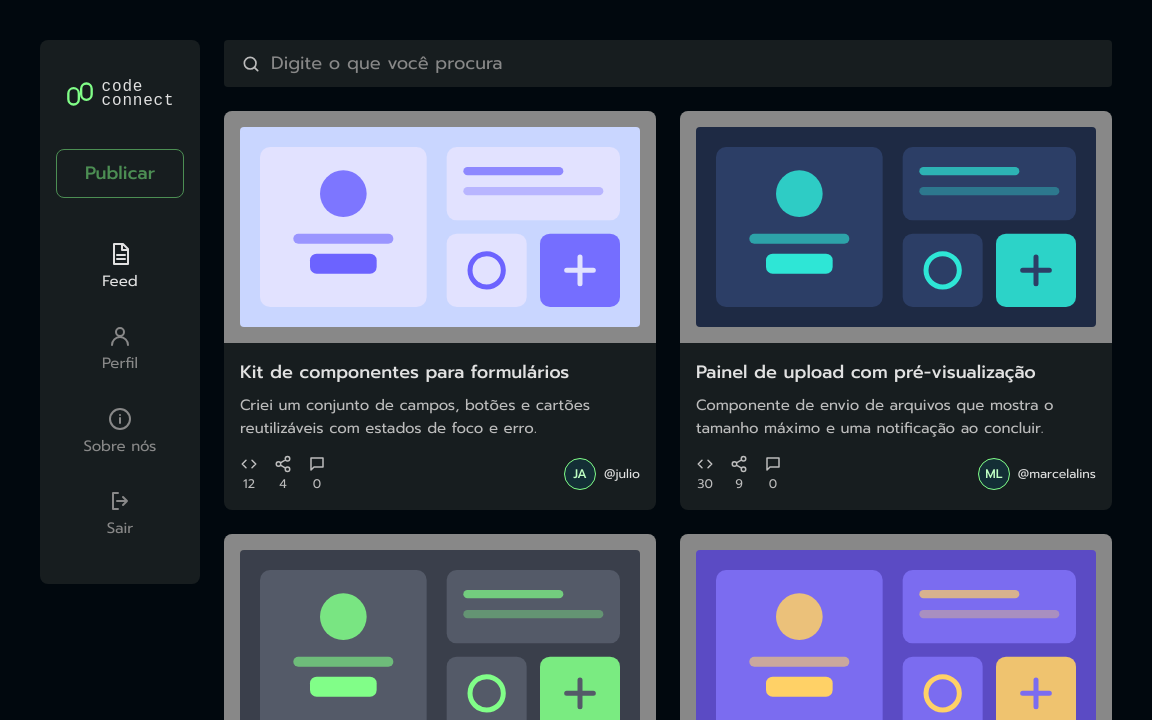
Test: PostDetails › abre os detalhes ao clicar em um card do feed
The width and height of the screenshot is (1152, 720).
Click the link "Painel de upload com pré-visualização": (866, 372) x1=696 y1=358 x2=1036 y2=386
(page scrolled)
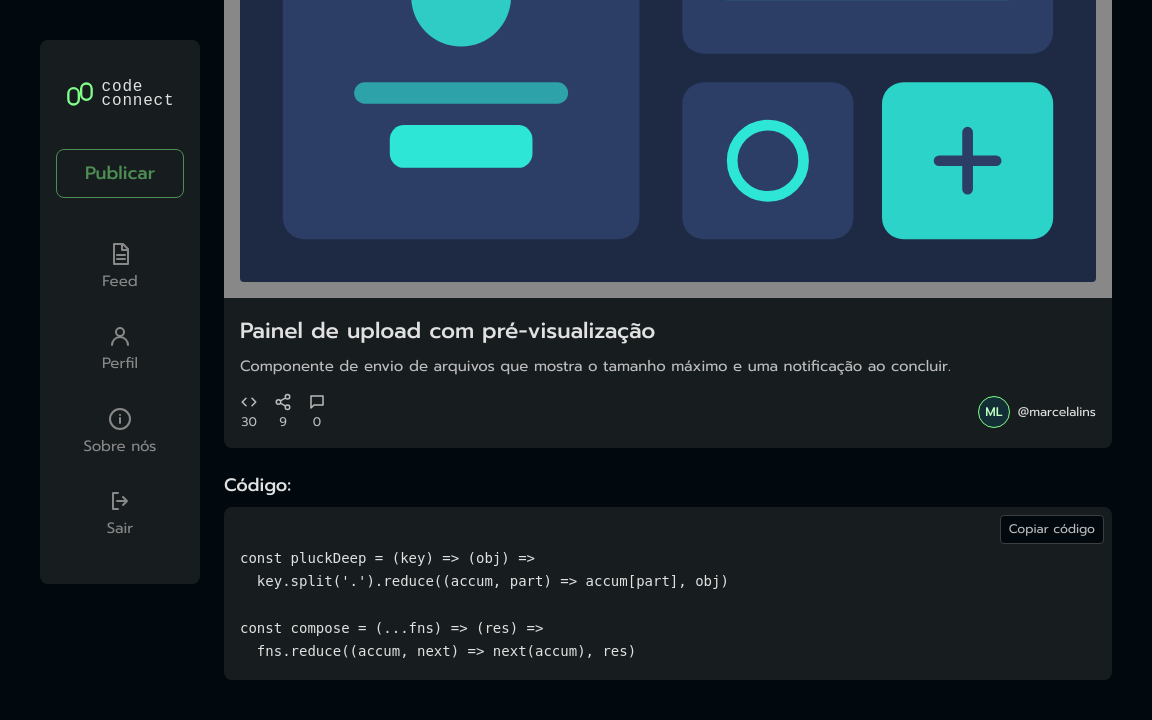
Check: the heading "Painel de upload com pré-visualização" is shown, box x1=240 y1=314 x2=655 y2=346
Check: the heading "Código:" is shown, box x1=224 y1=471 x2=291 y2=499
Check: the text "const pluckDeep" is shown, box x1=240 y1=550 x2=729 y2=659
